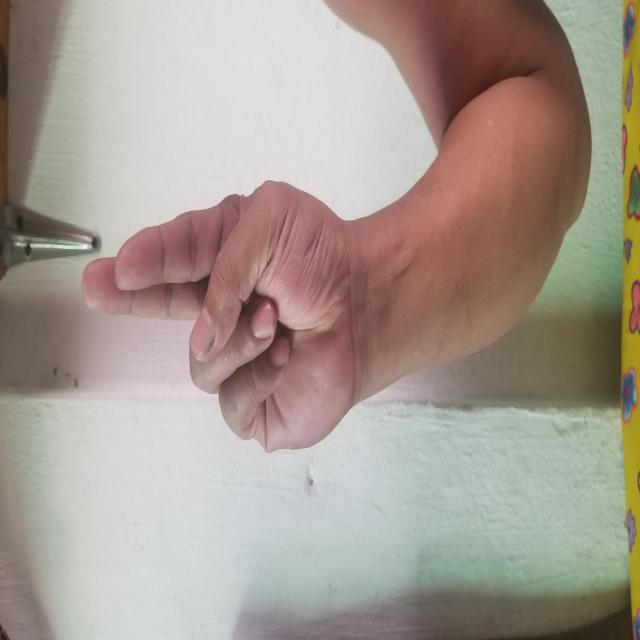R: (186, 81, 459, 355)
